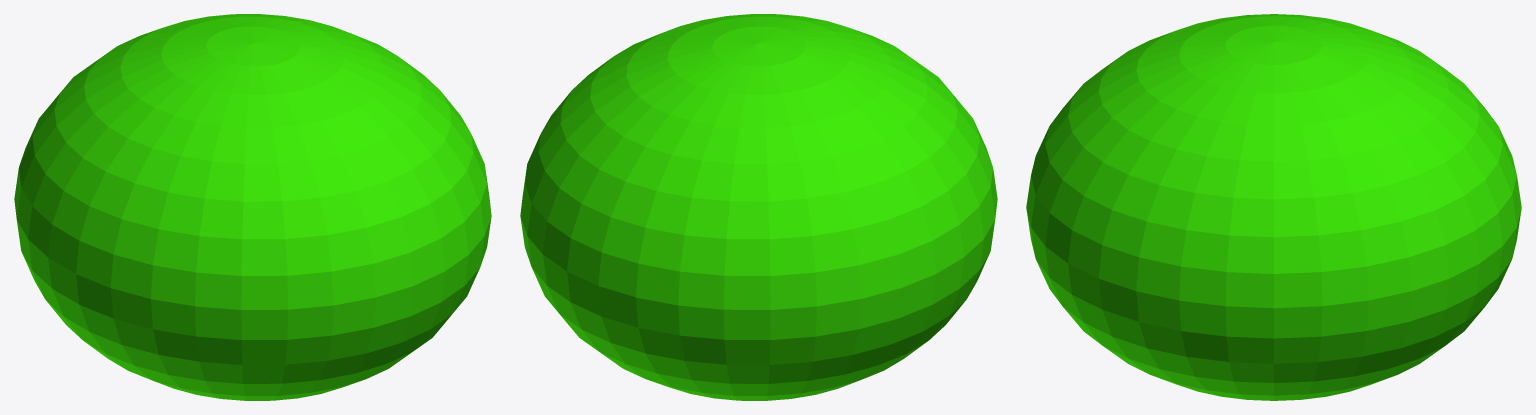
The model's file is bush.glb.
3 renders of one model, left to right at view 1: azimuth 30°, elevation 25°; view 2: azimuth 150°, elevation 25°; view 3: azimuth 270°, elevation 25°, orthographic.
Parts seen in each view (by area): view 1: Sphere.003; view 2: Sphere.003; view 3: Sphere.003.
Part boxes in pixels (x1,y1,x2,y2): Sphere.003: [14, 14, 491, 400]; Sphere.003: [520, 14, 997, 400]; Sphere.003: [1026, 14, 1521, 400].
Size of the model in its own units: 3.34 by 2.55 by 3.47.
